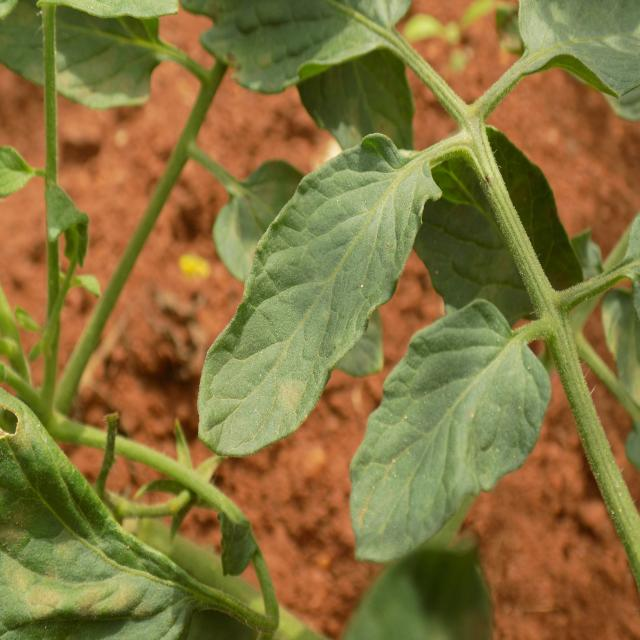tomato_healthy: (198, 129, 444, 456), (349, 305, 545, 561)
